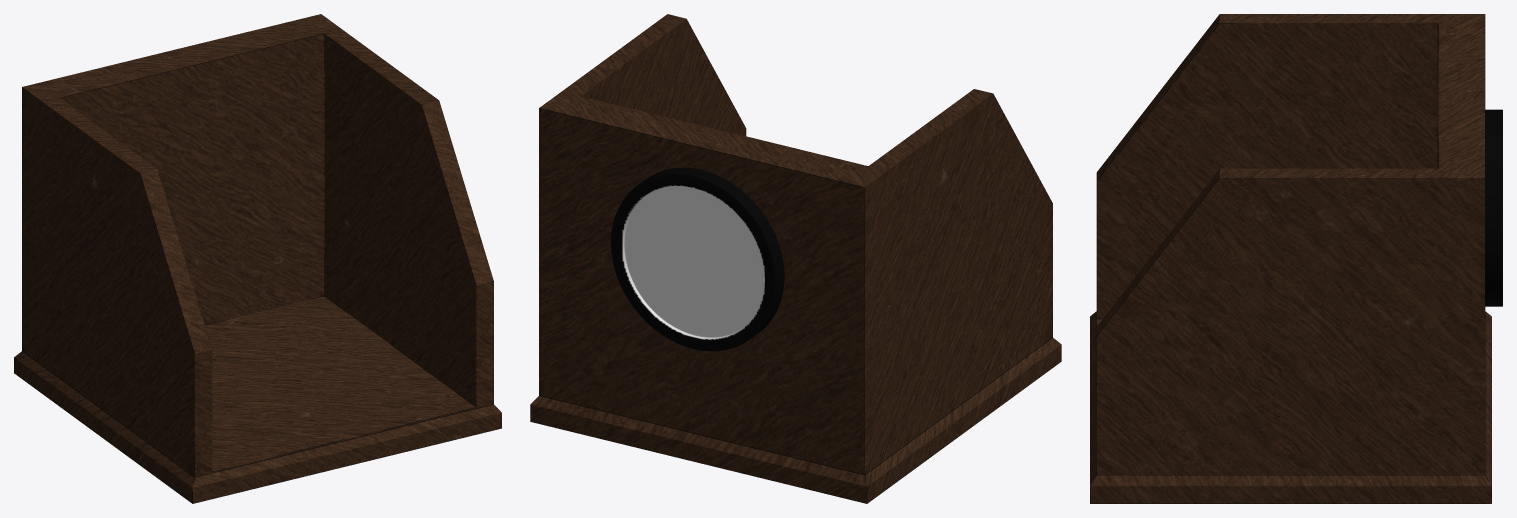
The picture shows the model from 3 angles, left to right: view 1: azimuth 30°, elevation 25°; view 2: azimuth 150°, elevation 25°; view 3: azimuth 270°, elevation 25°; orthographic projection. The views are drawn at different scales.
Visible parts, largest first — view 1: Cube_Baked; view 2: Cube_Baked; view 3: Cube_Baked.
Boxes of the visible parts, x1=… form: Cube_Baked: x1=14, y1=14, x2=501, y2=503; Cube_Baked: x1=530, y1=14, x2=1061, y2=503; Cube_Baked: x1=1090, y1=14, x2=1502, y2=503.
Size of the model in its own units: 2.74 by 2.43 by 2.81.
1 material, 1 textured.
